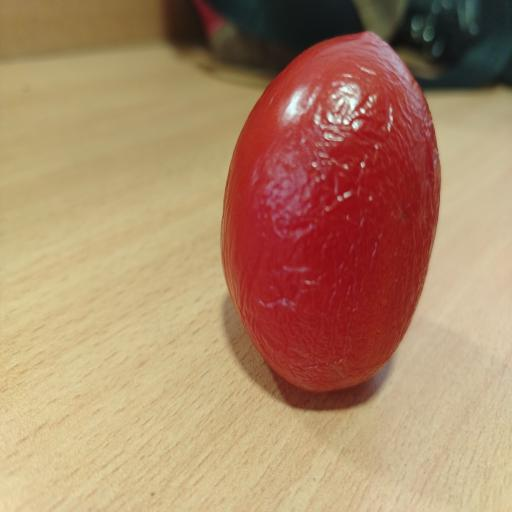spoiled: (221, 32, 440, 390)
